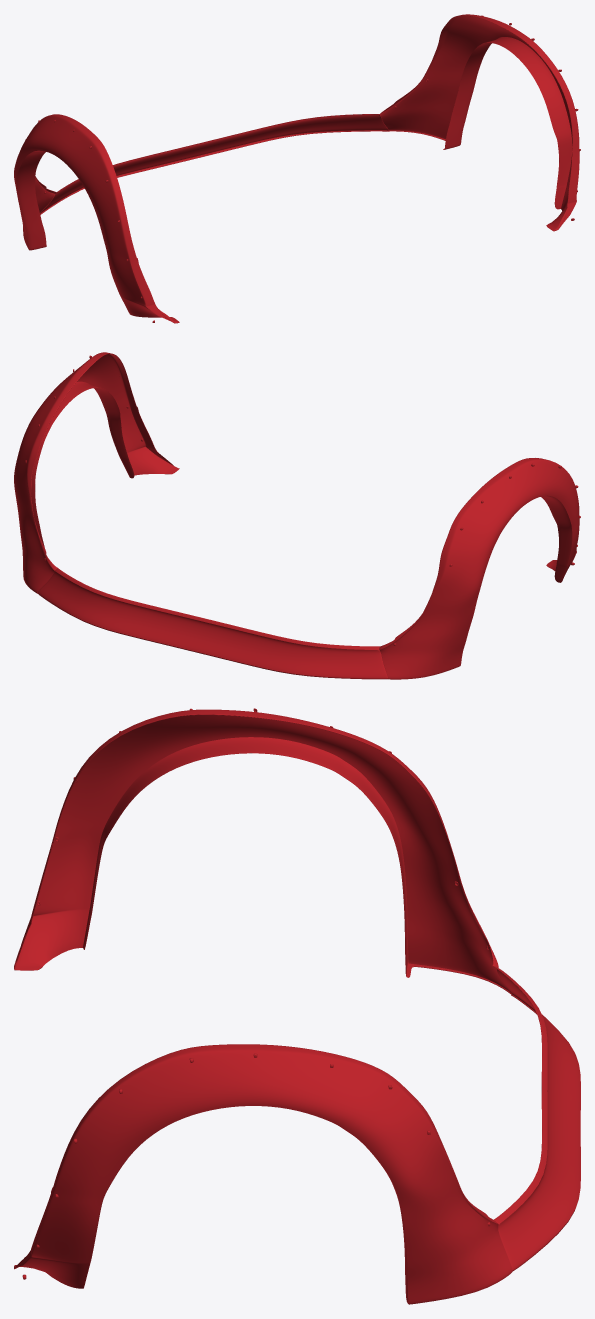
3 renders of one model, top to bottom at view 1: azimuth 30°, elevation 25°; view 2: azimuth 150°, elevation 25°; view 3: azimuth 270°, elevation 25°, orthographic. The views are drawn at different scales.
Visible parts, largest first — view 1: Miata_Aero_FrontFlareAK; view 2: Miata_Aero_FrontFlareAK; view 3: Miata_Aero_FrontFlareAK.
Boxes of the visible parts, <box> form: Miata_Aero_FrontFlareAK: <box>14,14,580,323</box>; Miata_Aero_FrontFlareAK: <box>14,352,580,679</box>; Miata_Aero_FrontFlareAK: <box>14,708,580,1304</box>.
Bounding box in the file's own units: 71.85 × 23.08 × 46.52.
